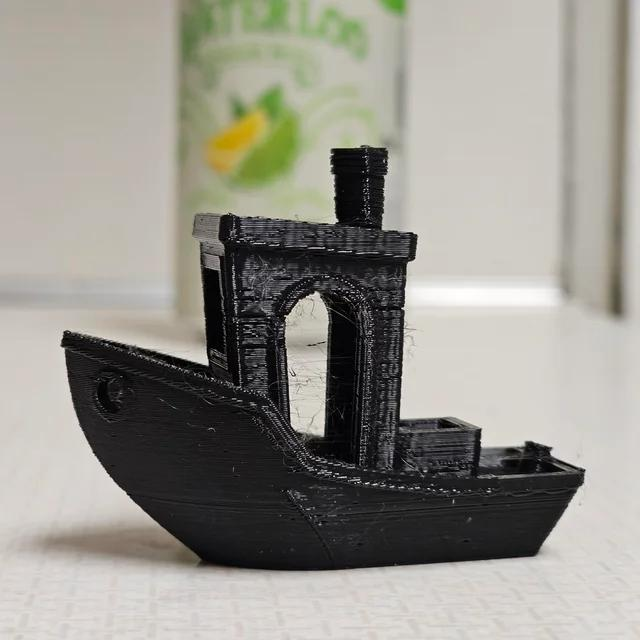Stringing: (283, 294, 324, 433)
